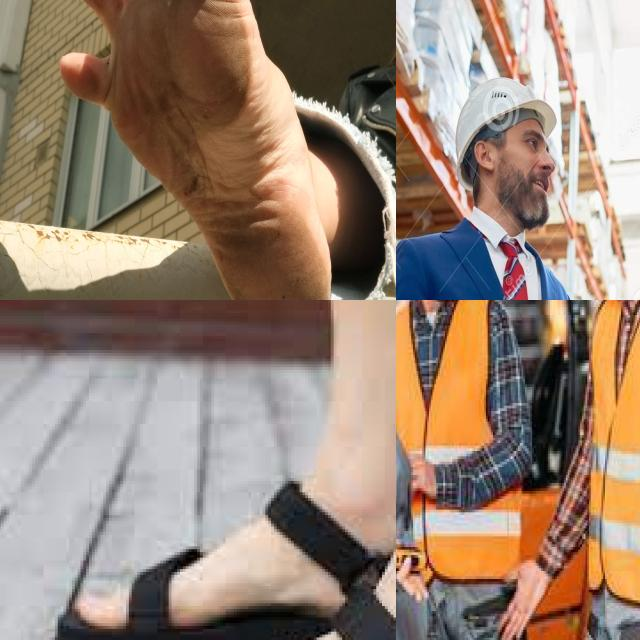Barefoots: (59, 0, 331, 300)
No_Ear-Protection: (470, 135, 497, 173)
No_Glasses: (474, 119, 561, 166)
face_nomask: (480, 108, 561, 230)
hand_noglove: (495, 563, 557, 640), (396, 523, 434, 605), (406, 448, 438, 507)
head_helmet: (454, 78, 558, 179)
person: (396, 71, 598, 300), (396, 300, 532, 640), (569, 300, 640, 640)
vest: (396, 300, 520, 573), (582, 300, 640, 610)
